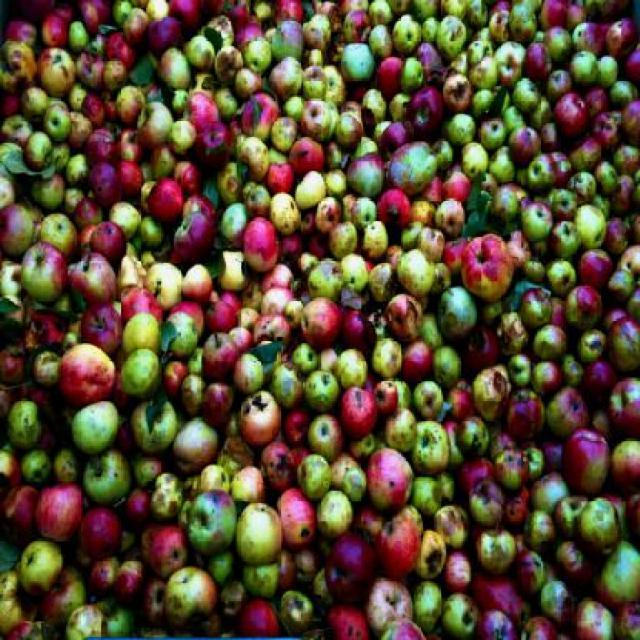Apple pie: (0, 0, 638, 638), (363, 458, 419, 520)
